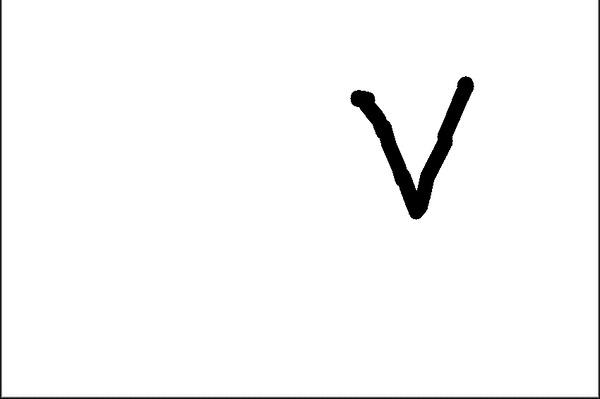V: (343, 74, 483, 226)
